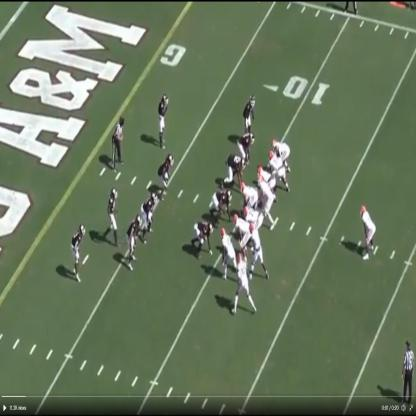CENTER: (239, 178, 257, 205)
DB: (403, 340, 415, 400), (73, 228, 84, 279), (160, 92, 170, 147), (109, 190, 120, 236), (242, 96, 256, 128)
LB: (144, 191, 157, 235), (130, 212, 140, 268), (161, 151, 172, 190)
QB: (258, 174, 271, 233)
SKILL: (360, 205, 376, 260), (220, 227, 235, 282), (250, 223, 264, 278), (238, 247, 250, 299), (272, 138, 292, 160)
